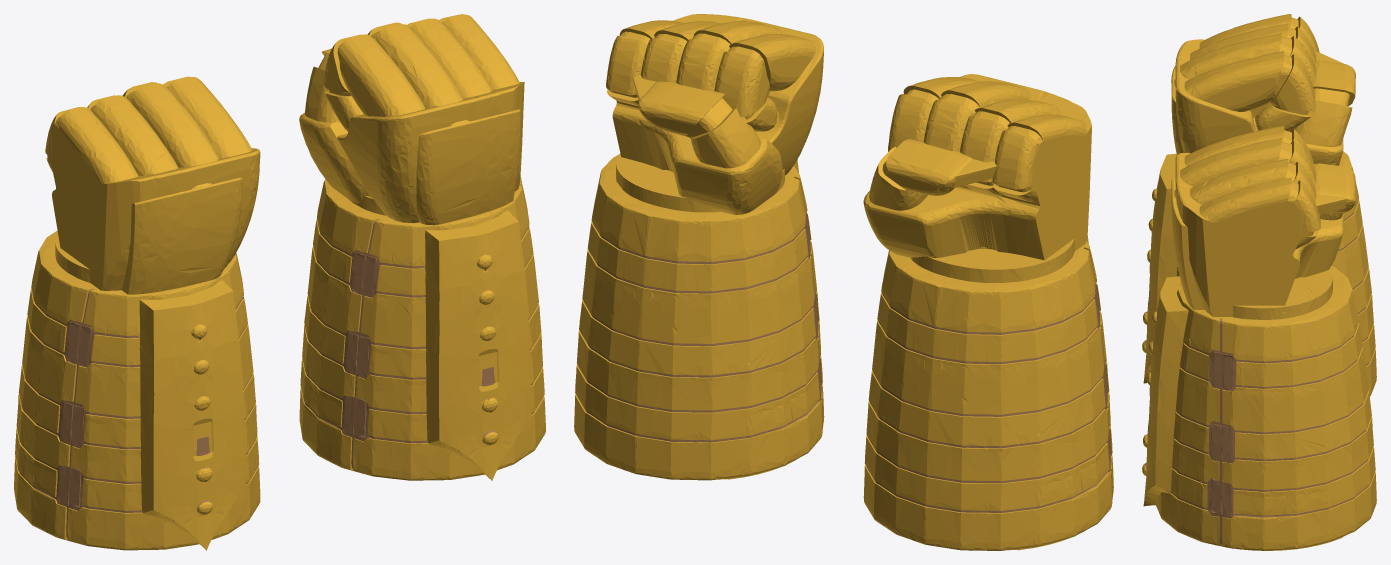
Rendered from tinker.obj.
3 renders of one model, left to right at view 1: azimuth 30°, elevation 25°; view 2: azimuth 150°, elevation 25°; view 3: azimuth 270°, elevation 25°, orthographic. The views are drawn at different scales.
Parts seen in each view (by area): view 1: obj_0, obj_1; view 2: obj_1, obj_0; view 3: obj_0, obj_1.
Boxes of the visible parts, x1,y1,x2,y2 form: obj_0: (299,14,545,480); obj_1: (14,76,260,550); obj_1: (863,74,1113,550); obj_0: (574,14,824,480); obj_0: (1142,125,1376,550); obj_1: (1142,14,1376,396).
Size of the model in its own units: 70 by 54 by 32.31.
